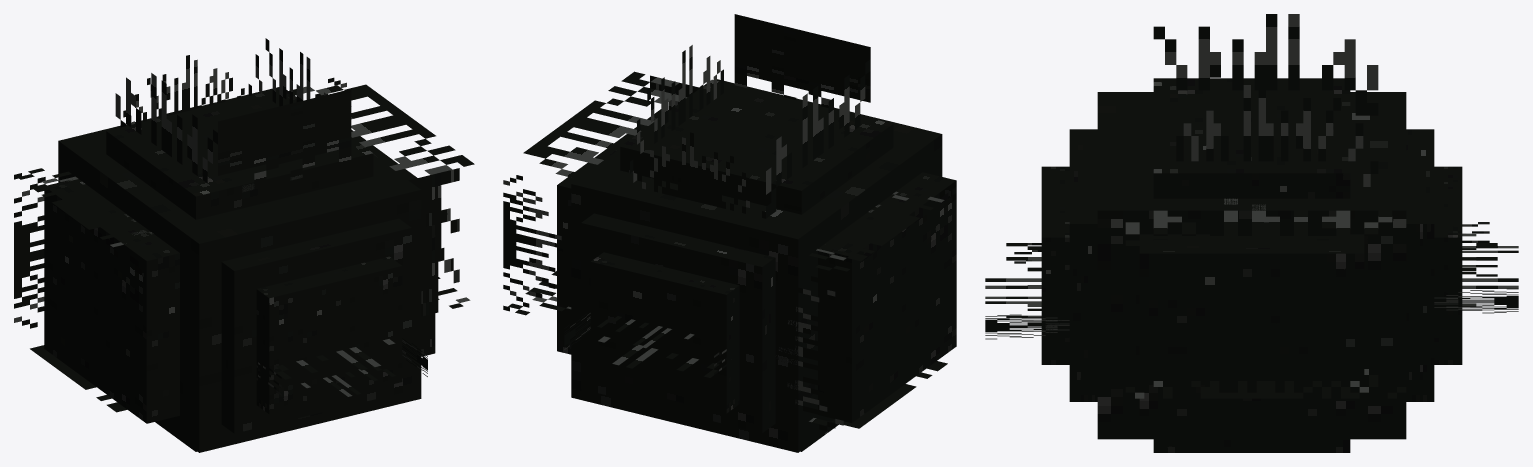
The model's file is Urchin_model.fbx.
3 renders of one model, left to right at view 1: azimuth 30°, elevation 25°; view 2: azimuth 150°, elevation 25°; view 3: azimuth 270°, elevation 25°, orthographic. The views are drawn at different scales.
Visible parts, largest first — view 1: cube, cube_3, cube_2, cube_8, cube_9, cube_5, cube_10, cube_11, cube_13, cube_4; view 2: cube, cube_3, cube_5, cube_7, cube_9, cube_1, cube_10, cube_11, cube_4, cube_12; view 3: cube_4, cube, cube_5, cube_9, cube_10, cube_1, cube_8, cube_2, cube_7, cube_12, cube_13, cube_6.
Part boxes in pixels (x1=…): cube: x1=58, y1=87, x2=421, y2=452; cube_3: x1=44, y1=179, x2=179, y2=423; cube_2: x1=256, y1=256, x2=402, y2=414; cube_8: x1=221, y1=218, x2=411, y2=433; cube_9: x1=115, y1=38, x2=351, y2=192; cube_5: x1=106, y1=89, x2=373, y2=219; cube_10: x1=289, y1=77, x2=474, y2=316; cube_11: x1=14, y1=168, x2=153, y2=412; cube_13: x1=256, y1=338, x2=427, y2=396; cube_4: x1=351, y1=129, x2=435, y2=356; cube: x1=571, y1=79, x2=942, y2=452; cube_3: x1=818, y1=172, x2=956, y2=422; cube_5: x1=620, y1=79, x2=893, y2=214; cube_7: x1=590, y1=252, x2=739, y2=413; cube_9: x1=630, y1=14, x2=870, y2=218; cube_1: x1=581, y1=213, x2=775, y2=433; cube_10: x1=503, y1=71, x2=699, y2=315; cube_11: x1=776, y1=190, x2=947, y2=431; cube_4: x1=557, y1=109, x2=669, y2=354; cube_12: x1=564, y1=313, x2=726, y2=377; cube_4: x1=1139, y1=236, x2=1364, y2=431; cube: x1=1097, y1=92, x2=1406, y2=439; cube_5: x1=1153, y1=78, x2=1350, y2=198; cube_9: x1=1153, y1=14, x2=1378, y2=186; cube_10: x1=1125, y1=198, x2=1406, y2=398; cube_1: x1=1406, y1=129, x2=1434, y2=401; cube_8: x1=1069, y1=129, x2=1097, y2=401; cube_2: x1=1041, y1=166, x2=1069, y2=364; cube_7: x1=1434, y1=166, x2=1462, y2=364; cube_12: x1=1434, y1=222, x2=1518, y2=313; cube_13: x1=985, y1=243, x2=1069, y2=339; cube_6: x1=1153, y1=439, x2=1350, y2=452.
Bounding box in the file's own units: 93.75 × 87.5 × 119.
Materials: 1 (1 with a texture image).
